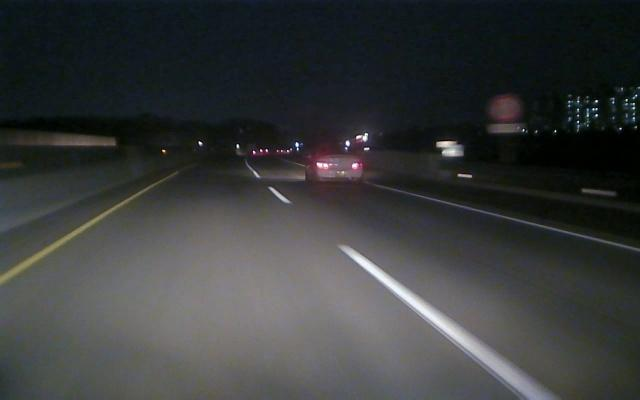lane: (269, 188, 562, 399), (394, 189, 640, 253), (2, 192, 139, 284)
